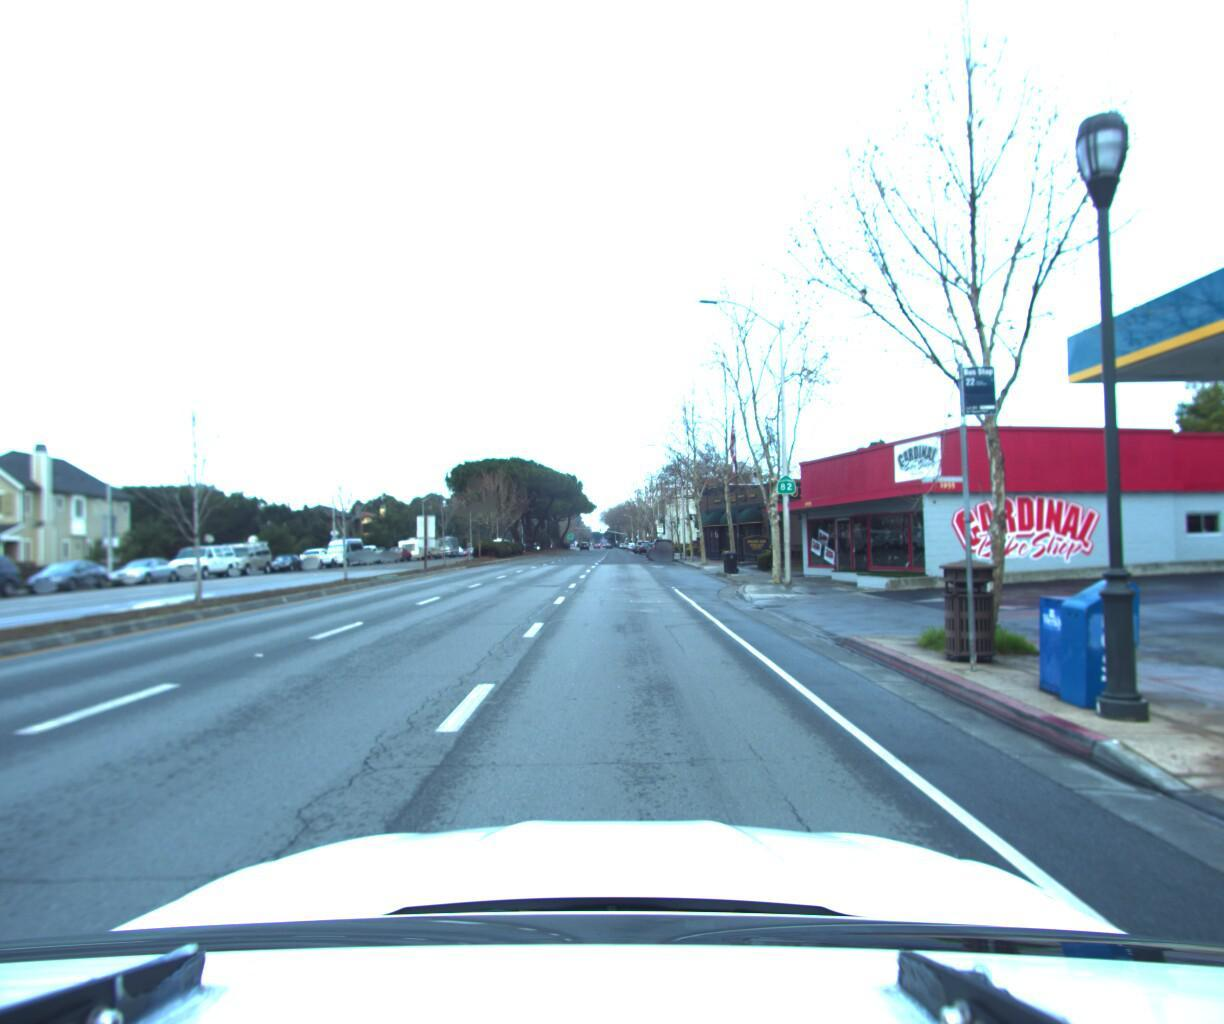car: (22, 558, 121, 596), (166, 542, 247, 581), (104, 555, 191, 587), (212, 539, 279, 575), (0, 552, 38, 608), (321, 532, 372, 566), (294, 545, 342, 570), (267, 551, 311, 573), (347, 542, 388, 564), (648, 534, 676, 555)
